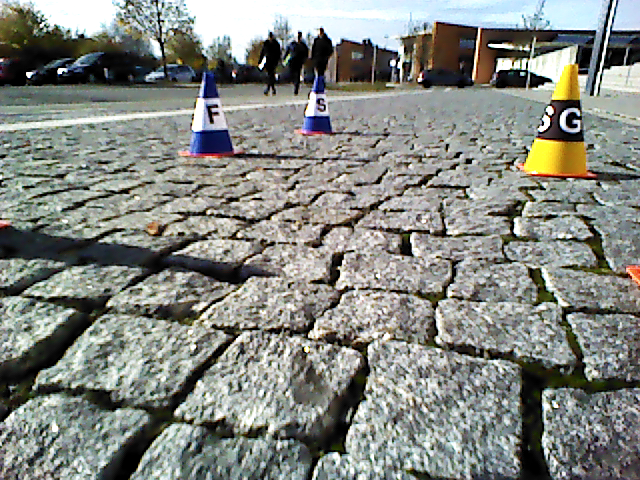bluecone: (190, 72, 232, 153), (303, 78, 334, 131)
yellowcone: (525, 65, 587, 173)
